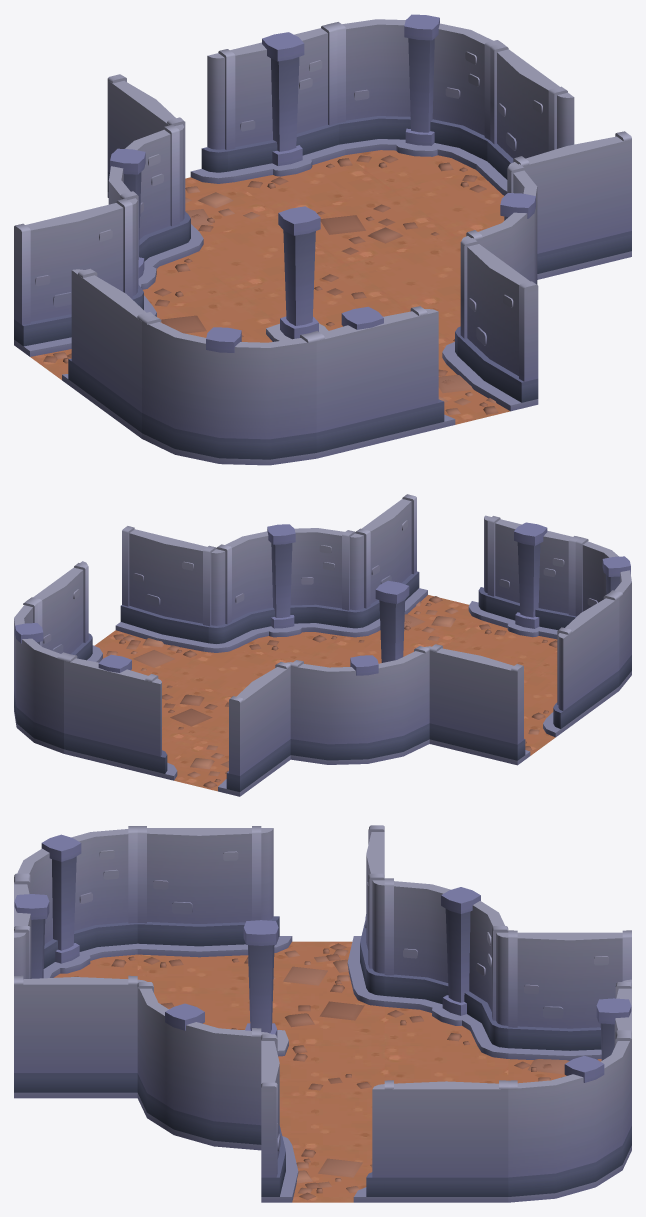
The model's file is kenney-modular-dungeon-room-large-variation.glb.
The picture shows the model from 3 angles, top to bottom: view 1: azimuth 30°, elevation 25°; view 2: azimuth 150°, elevation 25°; view 3: azimuth 270°, elevation 25°; orthographic projection. The views are drawn at different scales.
Parts seen in each view (by area): view 1: room-large-variation; view 2: room-large-variation; view 3: room-large-variation.
Part boxes in pixels (x1,y1,x2,y2): room-large-variation: (14, 14, 631, 465); room-large-variation: (14, 494, 631, 796); room-large-variation: (14, 825, 631, 1202).
Bounding box in the file's own units: 20 × 4.23 × 20.
Materials: 1 (1 with a texture image).
